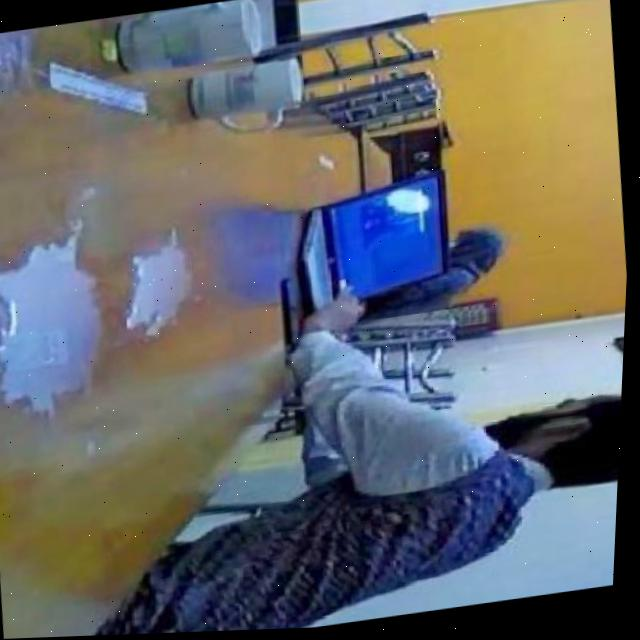spillage: (0, 245, 105, 414), (130, 247, 190, 335)
